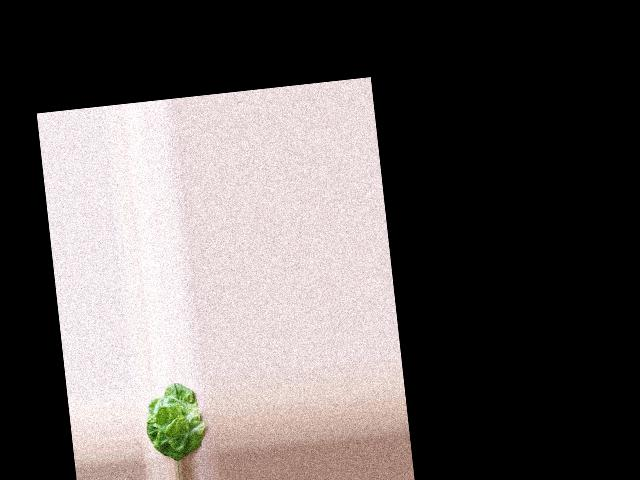lettuce: (142, 382, 207, 462)
